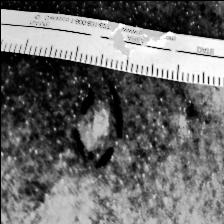Toxin: (76, 96, 110, 150)
